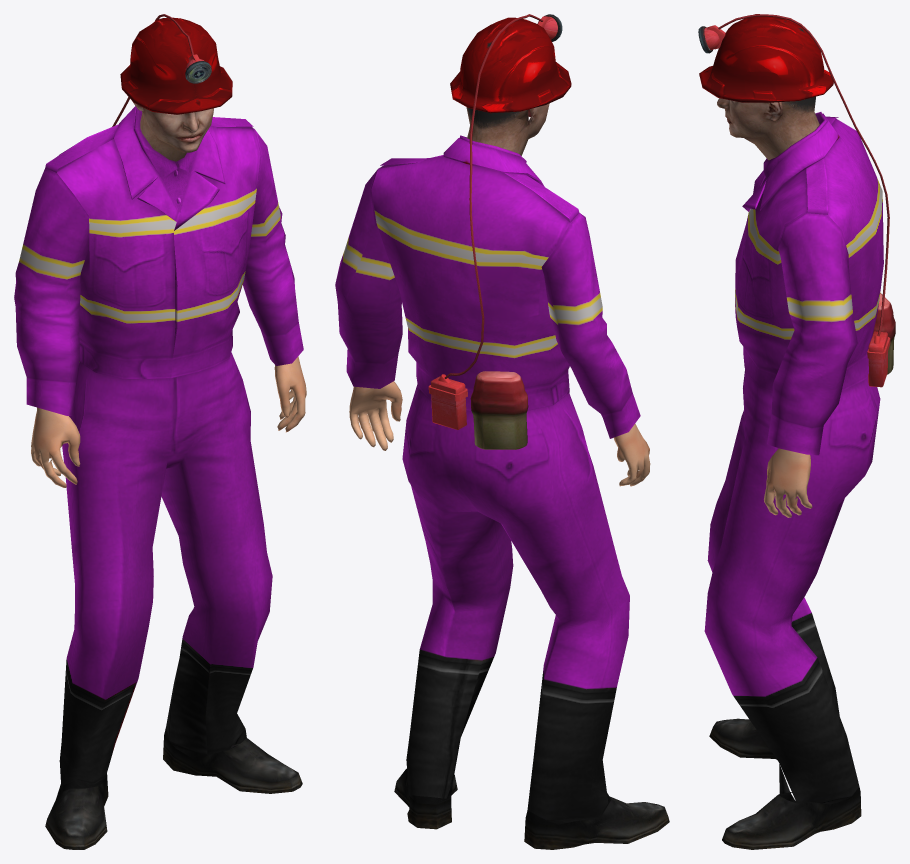
The model's file is kg_rydw_cjgb.gltf.
The picture shows the model from 3 angles, left to right: view 1: azimuth 30°, elevation 25°; view 2: azimuth 150°, elevation 25°; view 3: azimuth 270°, elevation 25°; orthographic projection.
Visible parts, largest first — view 1: MatrixTransform_Group_MatrixTransform_Group_0:MatrixTransfor (×3); view 2: MatrixTransform_Group_MatrixTransform_Group_0:MatrixTransfor (×3); view 3: MatrixTransform_Group_MatrixTransform_Group_0:MatrixTransfor (×3).
Part boxes in pixels (x1,y1,x2,y2): MatrixTransform_Group_MatrixTransform_Group_0:MatrixTransfor (×3): (14, 14, 306, 849); MatrixTransform_Group_MatrixTransform_Group_0:MatrixTransfor (×3): (335, 14, 669, 849); MatrixTransform_Group_MatrixTransform_Group_0:MatrixTransfor (×3): (698, 14, 895, 849).
Bounding box in the file's own units: 0.6705 × 1.79 × 0.409.
Materials: 1 (1 with a texture image).
